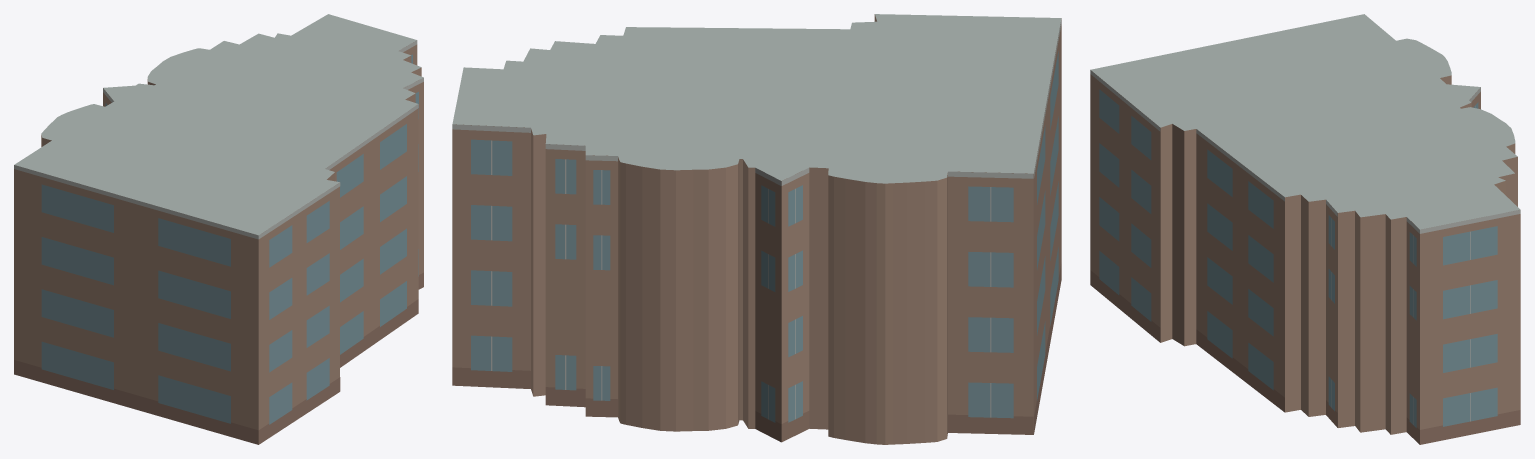
The model's file is survey-upis-33016172.glb.
The picture shows the model from 3 angles, left to right: view 1: azimuth 30°, elevation 25°; view 2: azimuth 150°, elevation 25°; view 3: azimuth 270°, elevation 25°; orthographic projection. The views are drawn at different scales.
Parts seen in each view (by area): view 1: survey-upis-33016172.tmp; view 2: survey-upis-33016172.tmp; view 3: survey-upis-33016172.tmp.
Boxes of the visible parts, left/top/right/bottom form: survey-upis-33016172.tmp: left=14, top=14, right=423, bottom=444; survey-upis-33016172.tmp: left=452, top=14, right=1061, bottom=444; survey-upis-33016172.tmp: left=1090, top=14, right=1520, bottom=444.
Bounding box in the file's own units: 26.5 × 12.33 × 22.34.
